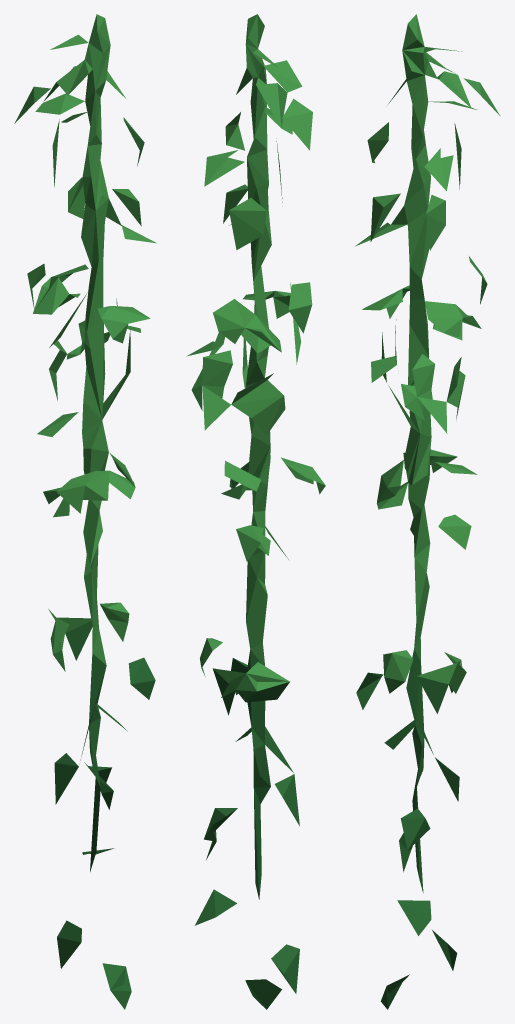
Rendered from vine-1.glb.
The picture shows the model from 3 angles, left to right: view 1: azimuth 90°, elevation 25°; view 2: azimuth 210°, elevation 25°; view 3: azimuth 270°, elevation 25°; orthographic projection. The views are drawn at different scales.
Visible parts, largest first — view 1: output_unwrapped; view 2: output_unwrapped; view 3: output_unwrapped.
Boxes of the visible parts, x1,y1,x2,y2 form: output_unwrapped: (14, 14, 156, 1009); output_unwrapped: (186, 14, 325, 1009); output_unwrapped: (355, 14, 500, 1009).
Size of the model in its own units: 0.3788 by 3 by 0.396.
